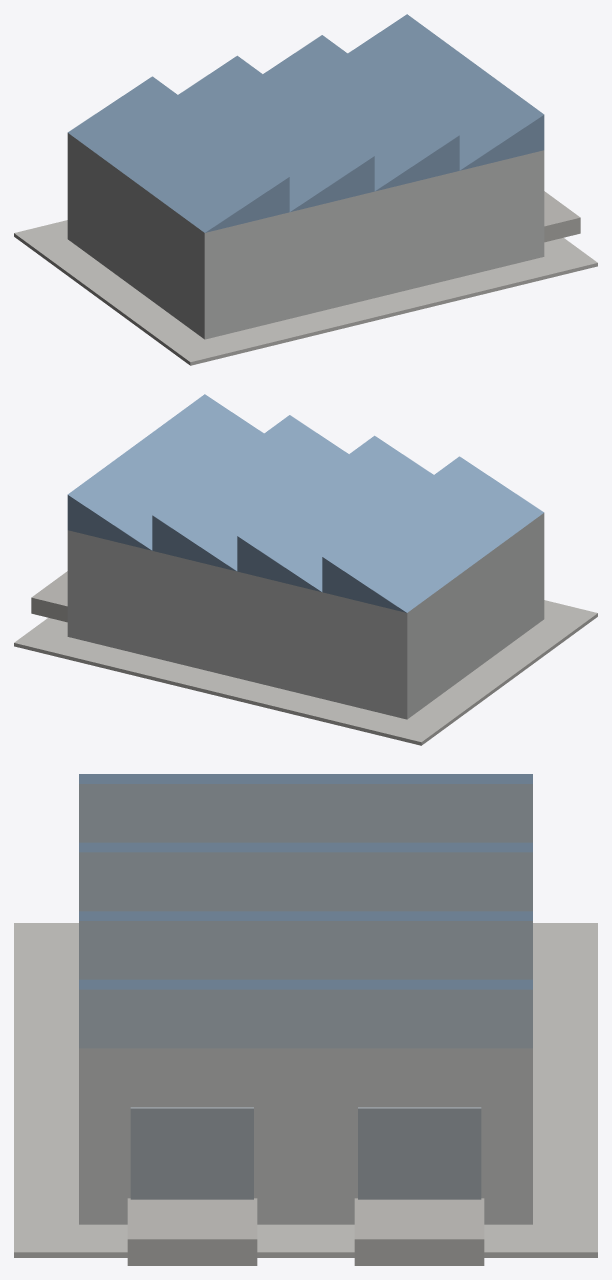
File: 15_industrial_logistics-01.glb
3 views of the same model, one above another, from view 1: azimuth 30°, elevation 25°; view 2: azimuth 150°, elevation 25°; view 3: azimuth 270°, elevation 25° (orthographic). The views are drawn at different scales.
Size of the model in its own units: 25 by 8.2 by 18.
